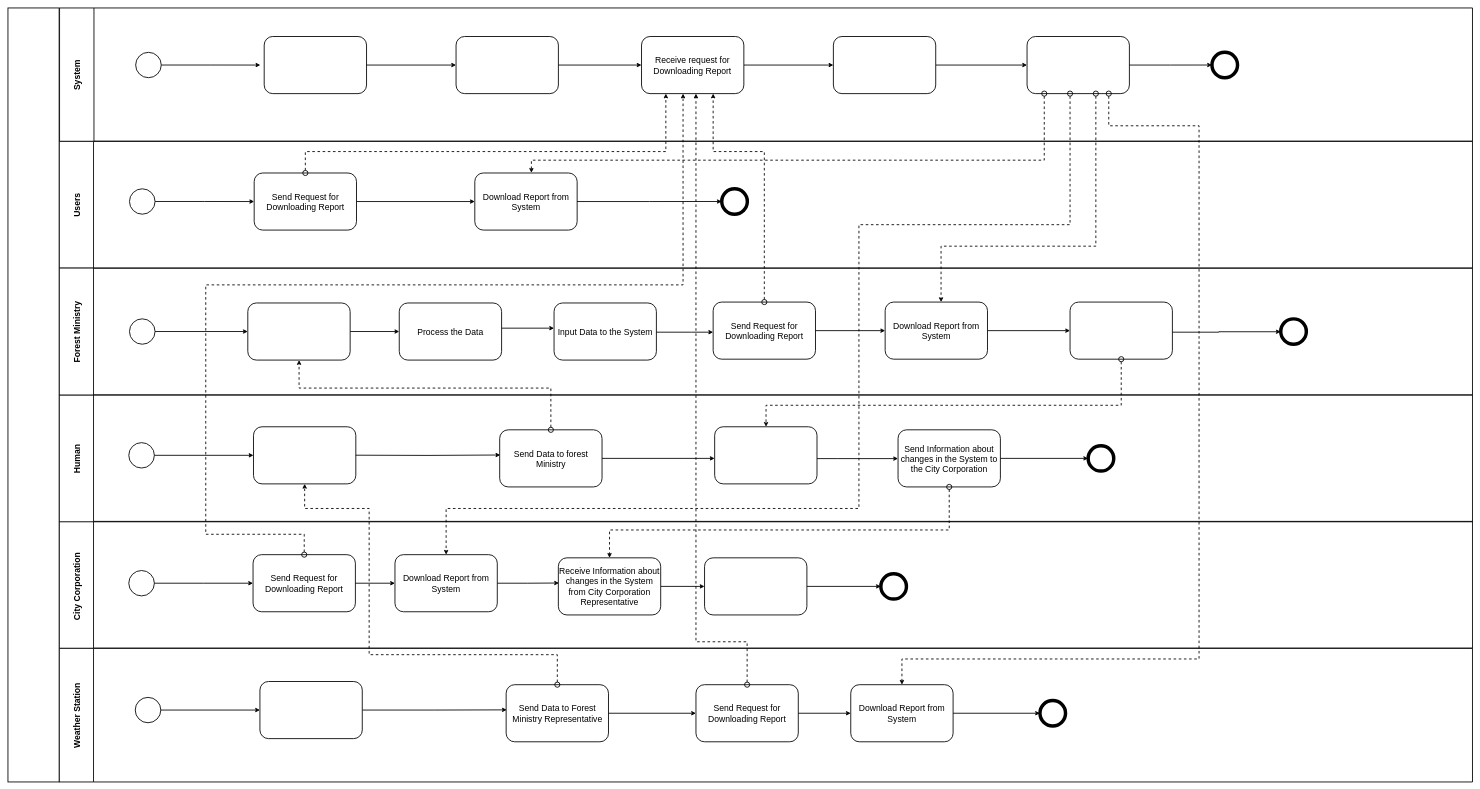
This 1480x789 diagram has some shape labels left out. Here are the shapes that lost their labels. From the top down, the centre of each, then its label:
At pixel 315 65: "Receive Data from the Forest Ministry".
At pixel 507 65: "Store data in the System".
At pixel 884 65: "Generate the Report".
At pixel 1078 65: "Send Report".
At pixel 298 331: "Receive data from Forest Ministry Representative".
At pixel 1121 330: "Send Request to make changes in system to the City Corporation Representative".
At pixel 33 394: "Air Quality Index".
At pixel 304 455: "Collect Data from Weather Station".
At pixel 765 455: "Receive Request to make changes".
At pixel 755 586: "Make Changes in the System".
At pixel 310 710: "Collect Data from Weather monitoring Devices".
